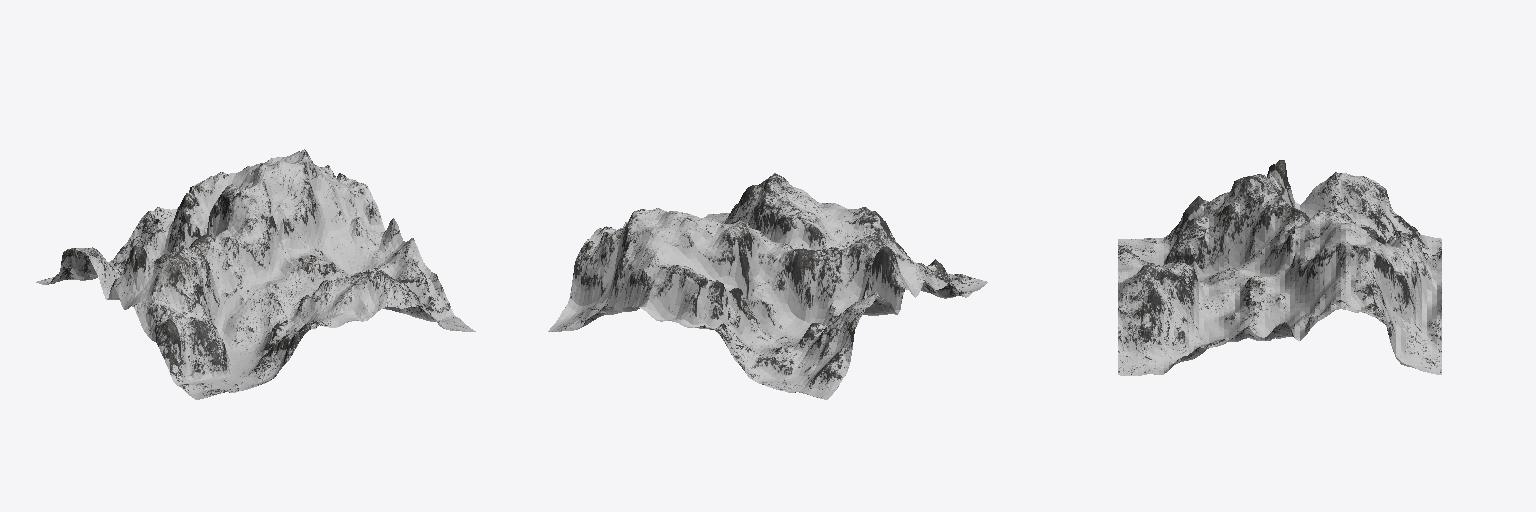
3 renders of one model, left to right at view 1: azimuth 30°, elevation 25°; view 2: azimuth 150°, elevation 25°; view 3: azimuth 270°, elevation 25°, orthographic.
Visible parts, largest first — view 1: yama:Mesh; view 2: yama:Mesh; view 3: yama:Mesh.
Boxes of the visible parts, x1,y1,x2,y2 form: yama:Mesh: [36, 149, 475, 399]; yama:Mesh: [548, 173, 987, 399]; yama:Mesh: [1118, 160, 1441, 375].
Bounding box in the file's own units: 200 × 75.33 × 200.
1 materials, 1 textured.